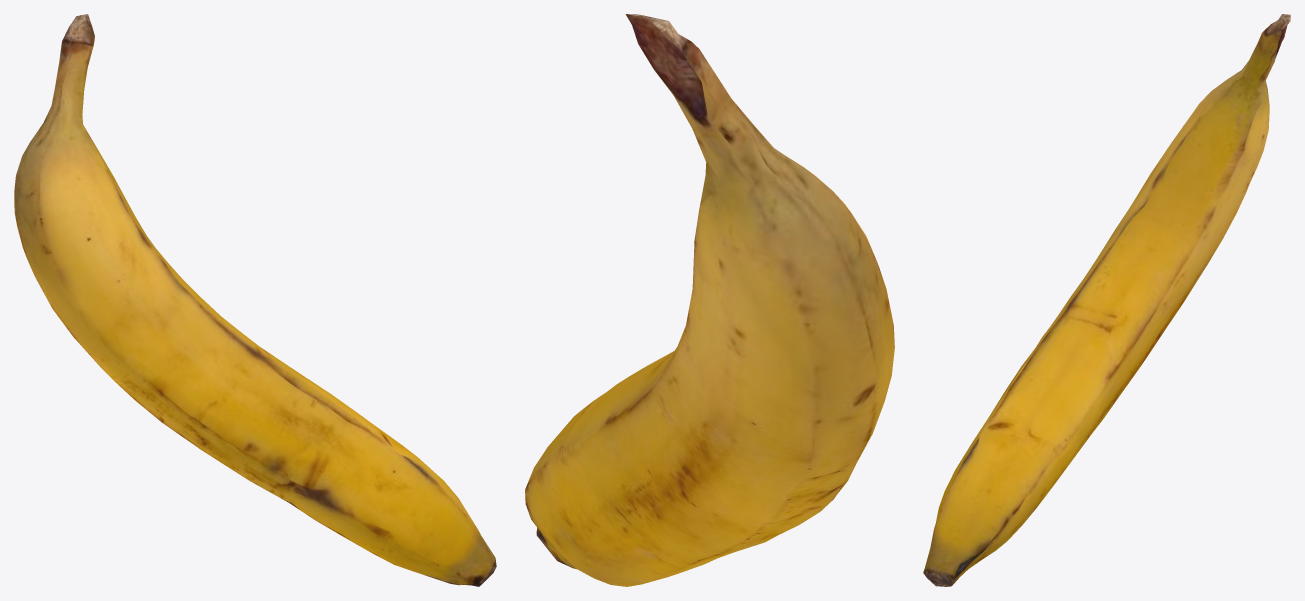
File: banana.gltf
3 views of the same model, side by side, from view 1: azimuth 30°, elevation 25°; view 2: azimuth 150°, elevation 25°; view 3: azimuth 270°, elevation 25° (orthographic). The views are drawn at different scales.
Parts seen in each view (by area): view 1: mk_banana; view 2: mk_banana; view 3: mk_banana.
Boxes of the visible parts, left/top/right/bottom form: mk_banana: left=14, top=14, right=496, bottom=586; mk_banana: left=525, top=14, right=894, bottom=586; mk_banana: left=923, top=14, right=1290, bottom=586.
Size of the model in its own units: 0.0488 by 0.0696 by 0.0494.
Materials: 1 (1 with a texture image).
